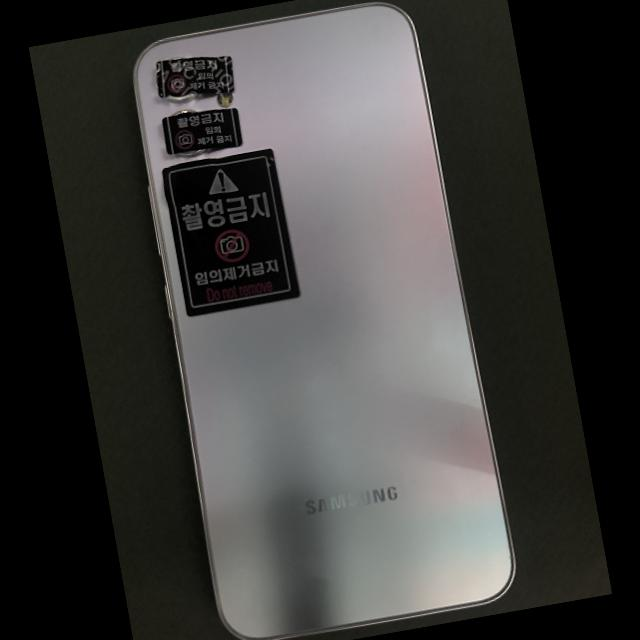phone: (133, 2, 514, 640)
sticker: (162, 148, 299, 315), (162, 107, 242, 154), (156, 55, 236, 98)
